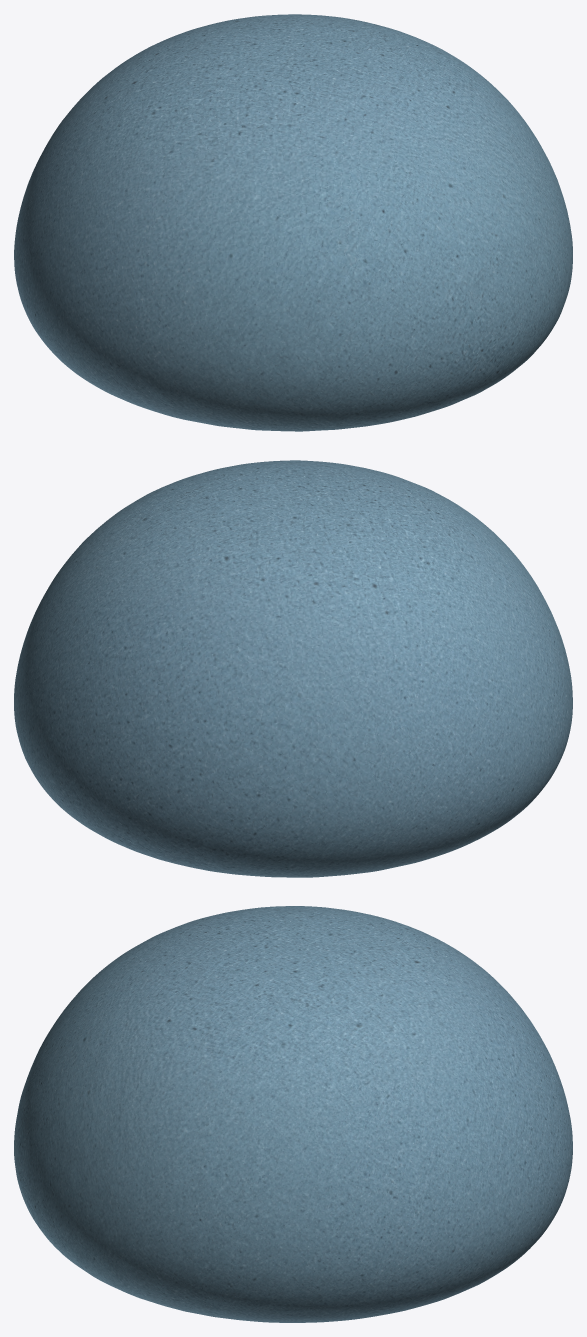
The model's file is Meshy_AI_round_rock_pebble_20261124_image-to-3d-texture.fbx.
3 views of the same model, one above another, from view 1: azimuth 30°, elevation 25°; view 2: azimuth 150°, elevation 25°; view 3: azimuth 270°, elevation 25° (orthographic).
Parts seen in each view (by area): view 1: Mesh_0; view 2: Mesh_0; view 3: Mesh_0.
Part boxes in pixels (left/top/right/bottom): Mesh_0: left=14, top=14, right=572, bottom=431; Mesh_0: left=14, top=460, right=572, bottom=877; Mesh_0: left=14, top=906, right=572, bottom=1322.
Size of the model in its own units: 190 by 110 by 190.
1 material, 1 textured.
